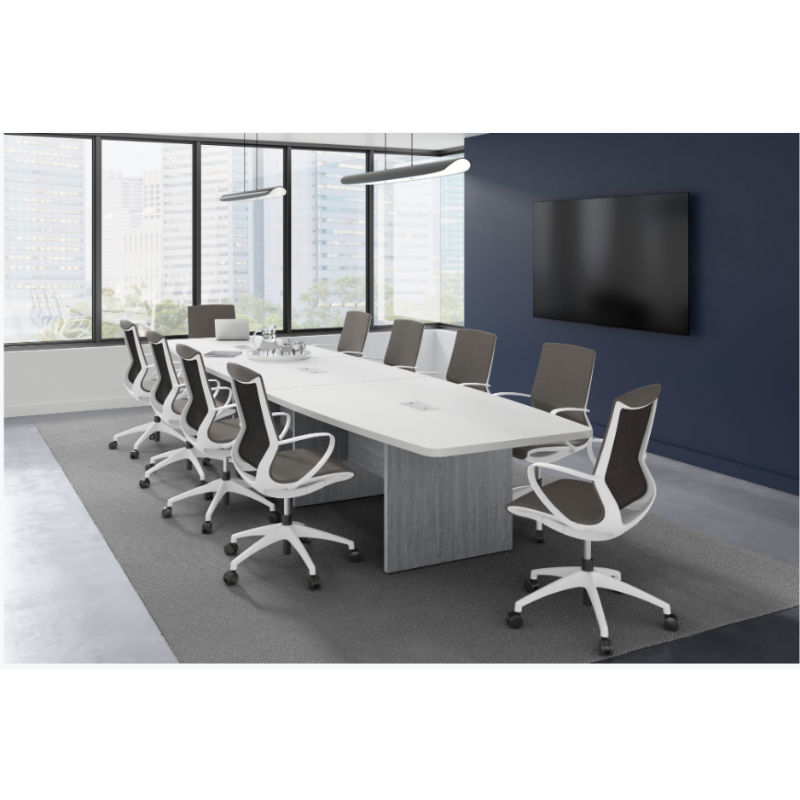conference_table: (152, 338, 594, 574)
